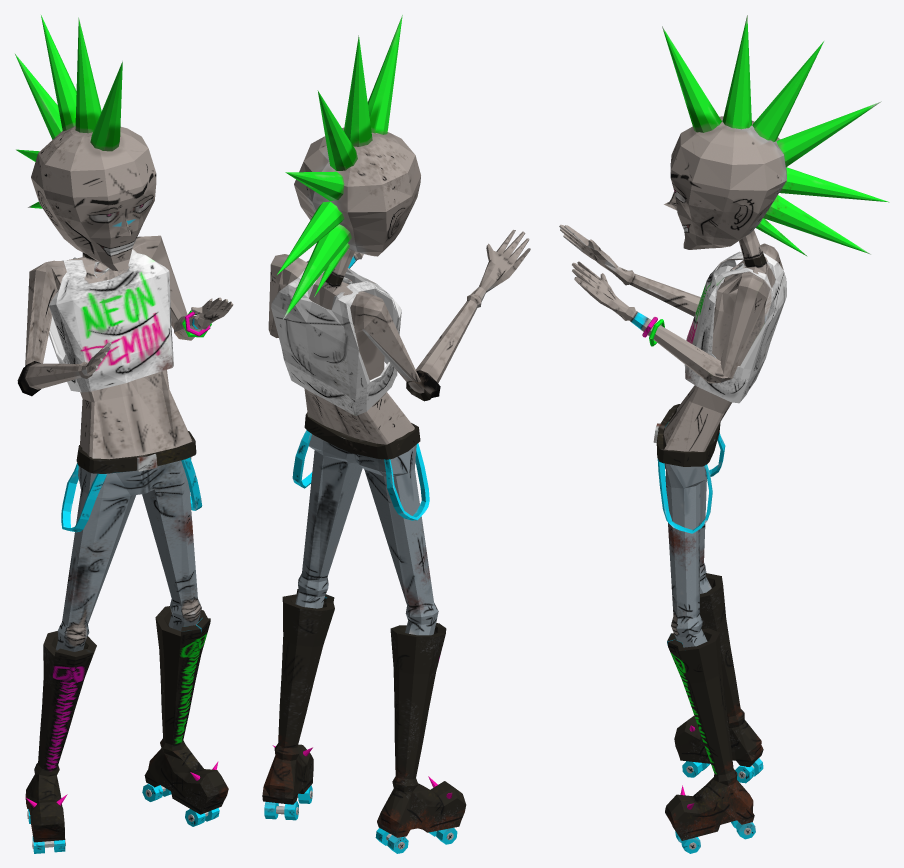
The model's file is punkAnimation_000005.obj.
3 renders of one model, left to right at view 1: azimuth 30°, elevation 25°; view 2: azimuth 150°, elevation 25°; view 3: azimuth 270°, elevation 25°, orthographic. The views are drawn at different scales.
Parts seen in each view (by area): view 1: Cube.004_Cube.003; view 2: Cube.004_Cube.003; view 3: Cube.004_Cube.003.
Boxes of the visible parts, x1,y1,x2,y2 form: Cube.004_Cube.003: [15, 15, 233, 853]; Cube.004_Cube.003: [262, 15, 530, 853]; Cube.004_Cube.003: [559, 15, 889, 853].
Bounding box in the file's own units: 1.86 × 7.55 × 2.87.
